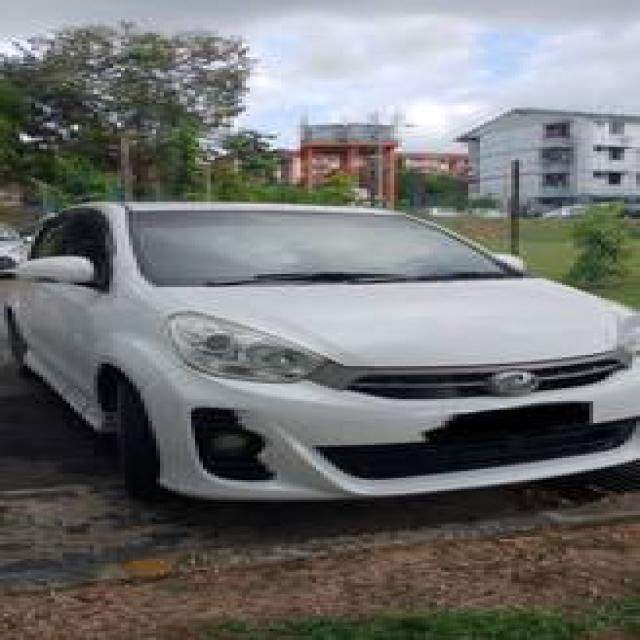PeroduaMyvi: (0, 197, 636, 504)
